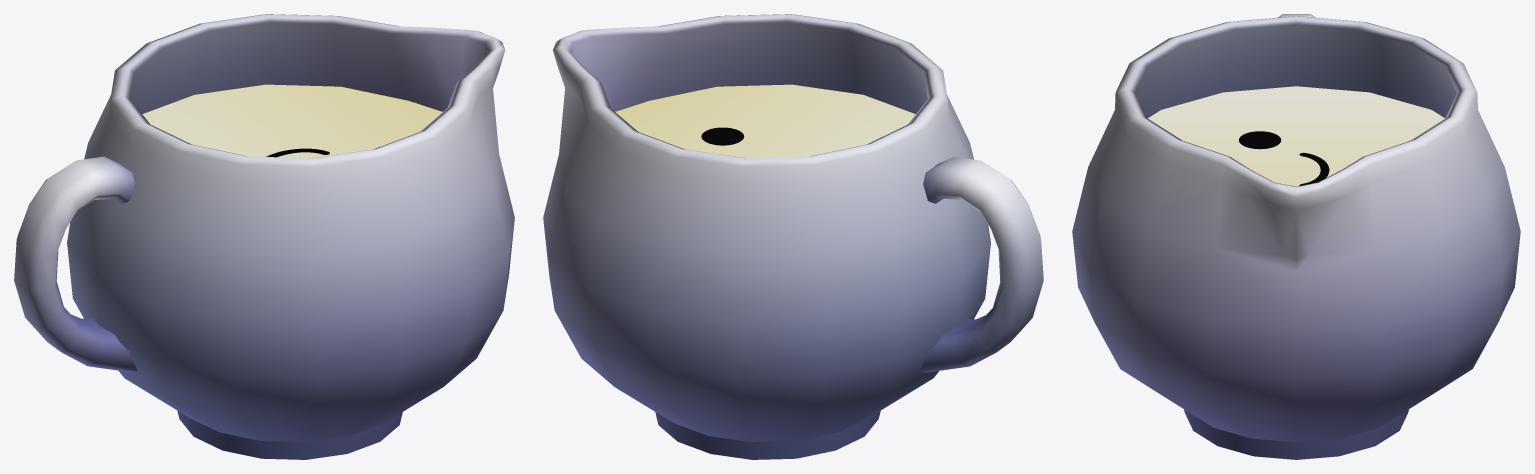
File: creamer_smile.fbx
3 renders of one model, left to right at view 1: azimuth 30°, elevation 25°; view 2: azimuth 150°, elevation 25°; view 3: azimuth 270°, elevation 25°, orthographic.
Visible parts, largest first — view 1: creamer_smile; view 2: creamer_smile; view 3: creamer_smile.
Part boxes in pixels (x1,y1,x2,y2): creamer_smile: (14, 14, 514, 459); creamer_smile: (543, 14, 1043, 459); creamer_smile: (1072, 14, 1520, 459).
Bounding box in the file's own units: 107 × 69.43 × 87.06.
2 materials, 2 textured.
